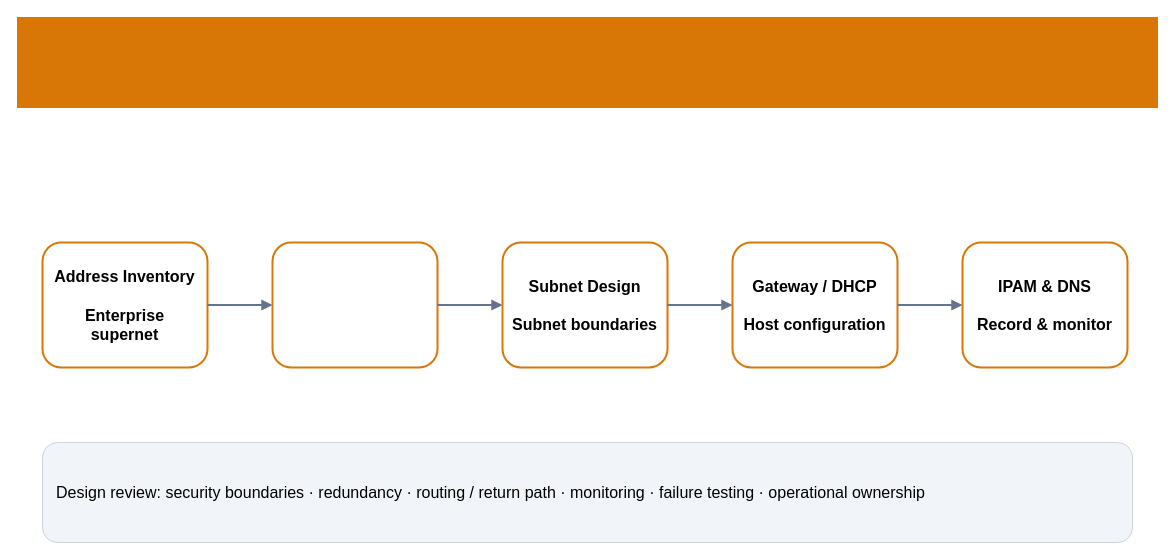
Image size: 1175x560. Some labels were removed from this diagram. The centre of each missing label's shape, as x and y in pixels:
CIDR Allocation Site / environment blocks: pixel 354 304
IP Addressing and Subnetting Plan address space and reachability: pixel 587 62
